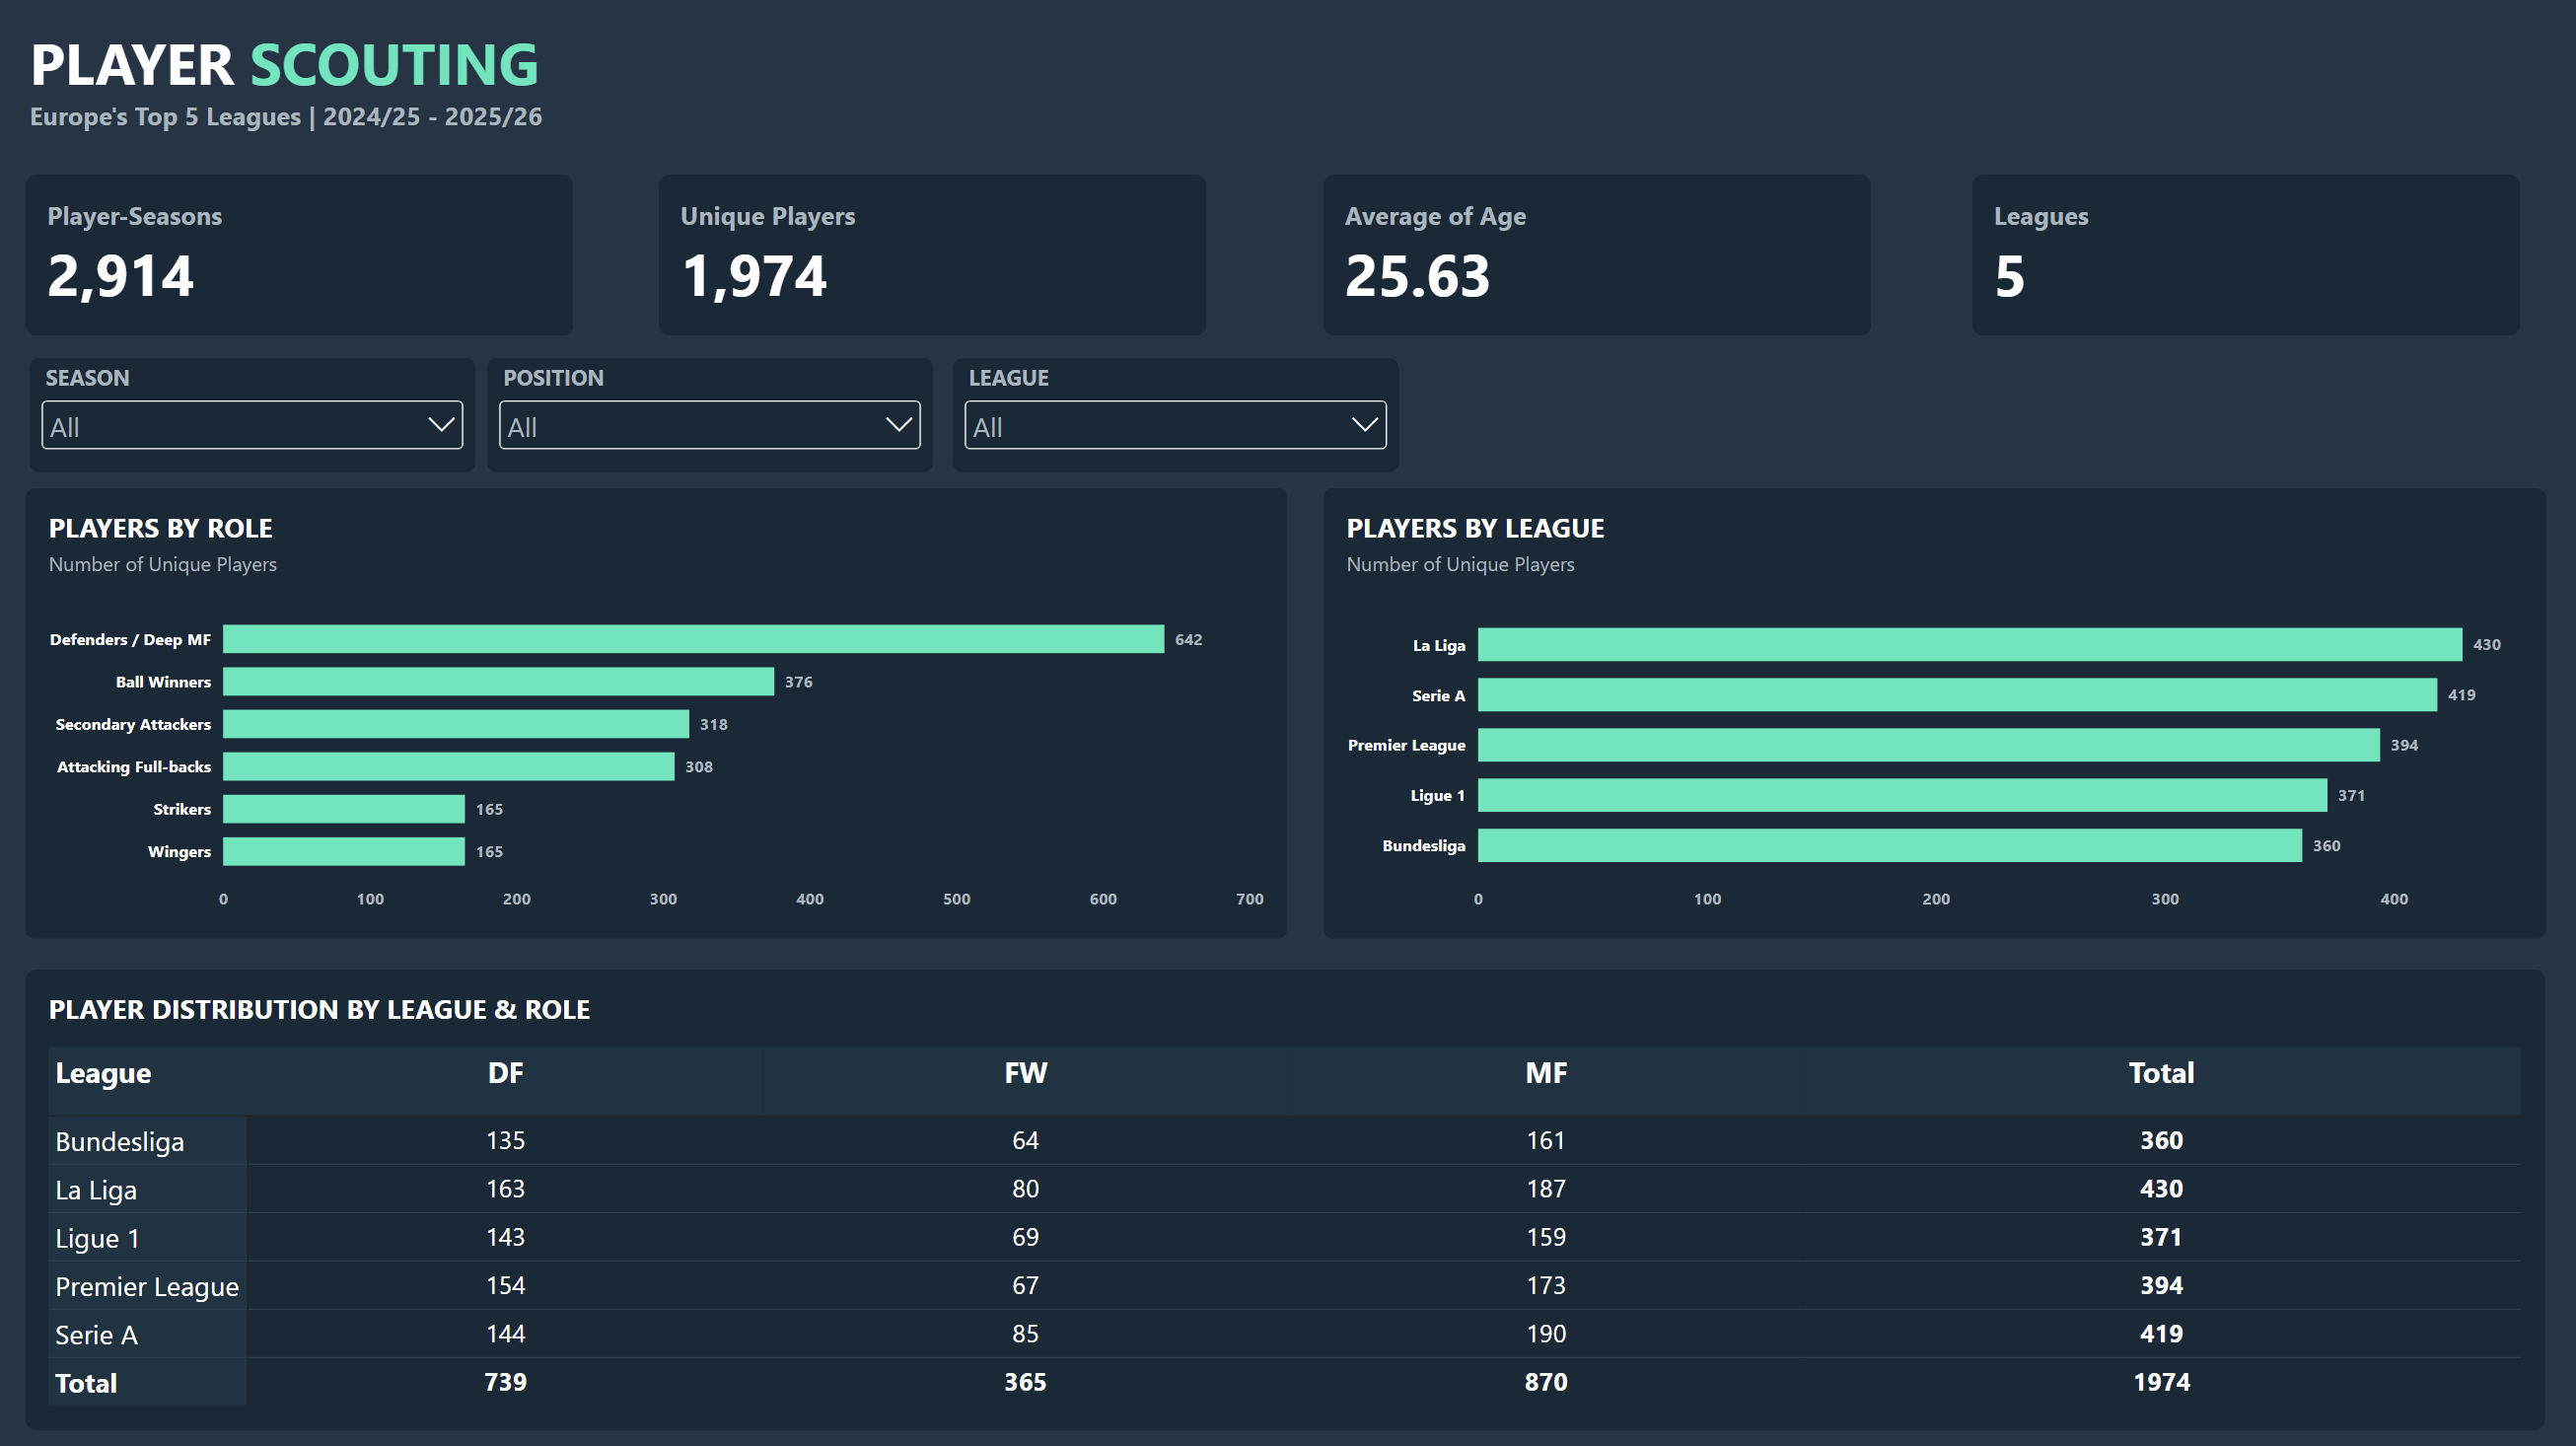

What the dashboard file says about the page in this screenshot:
{"tool":"powerbi","page":{"name":"Player Scouting Overview","canvas":[1920,1080],"ordinal":0},"visuals":[{"type":"cardVisual","fields":{"Data":["Seasons.Player-Seasons"]},"box":[19.3,130.4,408.2,120.8],"z":0},{"type":"cardVisual","fields":{"Data":["Avg(Seasons.Age)"]},"box":[985.4,130.4,408,120],"z":1000},{"type":"clusteredBarChart","title":"PLAYERS BY ROLE","fields":{"Category":["Profiles.Role Short"],"Y":["CountNonNull(Profiles.Player)"]},"box":[19.3,365,939.5,335.7],"z":2000},{"type":"clusteredBarChart","title":"PLAYERS BY LEAGUE","fields":{"Category":["Profiles.League"],"Y":["Count(Profiles.Player)"]},"box":[985.4,365,910.5,335.7],"z":3000},{"type":"pivotTable","title":"PLAYER DISTRIBUTION BY LEAGUE & ROLE","fields":{"Columns":["Profiles.Position Group"],"Rows":["Profiles.League"],"Values":["Profiles.Players"]},"box":[19.3,722.1,1876.5,342.9],"z":4000},{"type":"slicer","fields":{"Values":["Seasons.Season"]},"box":[21.7,268,332,85],"z":5000},{"type":"slicer","fields":{"Values":["Profiles.League"]},"box":[710,268,332.3,85],"z":6000},{"type":"slicer","fields":{"Values":["Seasons.Position Group"]},"box":[362.3,268,332,85],"z":7000},{"type":"cardVisual","fields":{"Data":["Profiles.Unique Players"]},"box":[490.3,130.4,408,120.8],"z":8000},{"type":"cardVisual","fields":{"Data":["Profiles.Number of Leagues"]},"box":[1468.4,130.4,408,120.8],"z":9000},{"type":"textbox","box":[21.7,16.9,1876.5,86.9],"z":10000},{"type":"image","box":[1582.6,10.6,91.8,114.8],"z":11000},{"type":"image","box":[1503.8,30.6,79.6,73],"z":12000},{"type":"image","box":[1675.2,30.6,59.2,73],"z":13000},{"type":"image","box":[1752.7,30,65.3,73.5],"z":14000},{"type":"image","box":[1820,30.6,79.6,73.5],"z":15000}]}

Visuals, with their boxes in screenshot pixels (x1, y1, x2, y2), scaled from the page's 1920x1080 canvas onto the 2576x1446 screenshot:
cardVisual - Seasons.Player-Seasons: <region>26, 175, 574, 336</region>
cardVisual - Avg(Seasons.Age): <region>1323, 175, 1870, 335</region>
"PLAYERS BY ROLE" clusteredBarChart: <region>26, 488, 1286, 938</region>
"PLAYERS BY LEAGUE" clusteredBarChart: <region>1323, 488, 2543, 938</region>
"PLAYER DISTRIBUTION BY LEAGUE & ROLE" pivotTable: <region>26, 967, 2543, 1426</region>
slicer - Seasons.Season: <region>30, 359, 474, 472</region>
slicer - Profiles.League: <region>953, 359, 1398, 472</region>
slicer - Seasons.Position Group: <region>486, 359, 932, 472</region>
cardVisual - Profiles.Unique Players: <region>658, 175, 1205, 336</region>
cardVisual - Profiles.Number of Leagues: <region>1970, 175, 2518, 336</region>
textbox: <region>30, 23, 2546, 139</region>
image: <region>2123, 14, 2247, 168</region>
image: <region>2018, 41, 2124, 139</region>
image: <region>2248, 41, 2327, 139</region>
image: <region>2351, 40, 2439, 138</region>
image: <region>2442, 41, 2548, 139</region>
